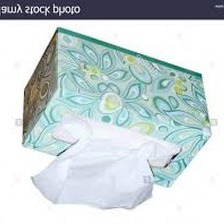book: (15, 22, 216, 193)
tissue: (25, 132, 160, 214)
